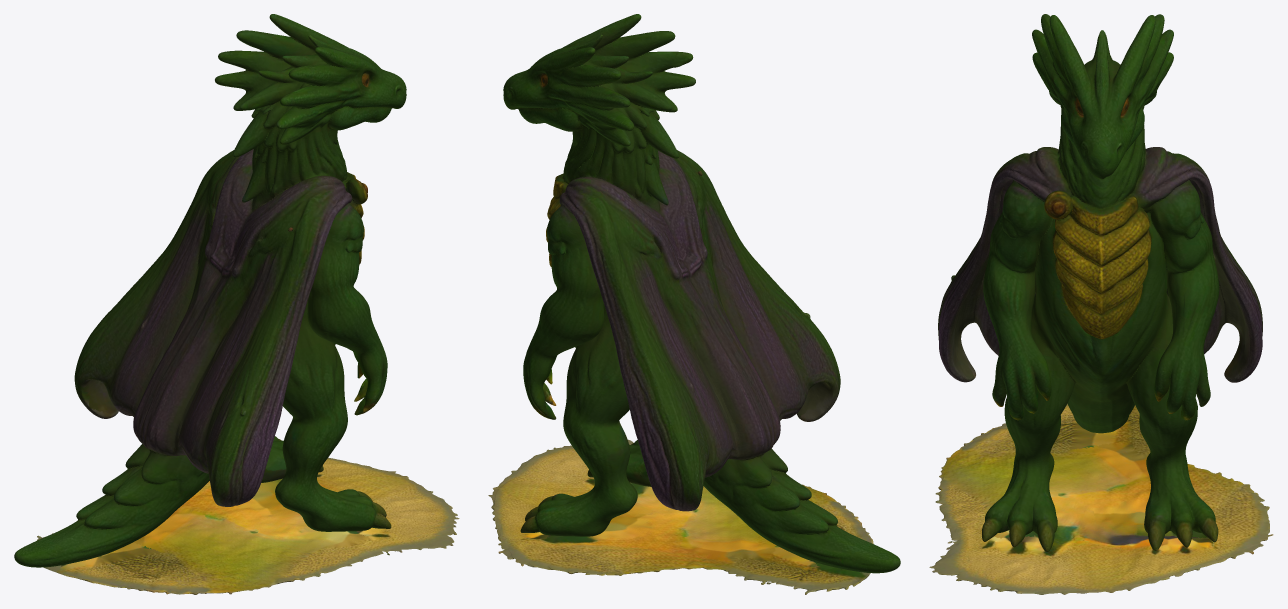
Rendered from LordDraco.glb.
The picture shows the model from 3 angles, left to right: view 1: azimuth 30°, elevation 25°; view 2: azimuth 150°, elevation 25°; view 3: azimuth 270°, elevation 25°; orthographic projection. The views are drawn at different scales.
Parts seen in each view (by area): view 1: tripo_node_4e984a3d-4798-4294-91f8-a6d67712f1cd; view 2: tripo_node_4e984a3d-4798-4294-91f8-a6d67712f1cd; view 3: tripo_node_4e984a3d-4798-4294-91f8-a6d67712f1cd.
Part boxes in pixels (<box>): tripo_node_4e984a3d-4798-4294-91f8-a6d67712f1cd: <box>14,14,459,594</box>; tripo_node_4e984a3d-4798-4294-91f8-a6d67712f1cd: <box>488,14,900,594</box>; tripo_node_4e984a3d-4798-4294-91f8-a6d67712f1cd: <box>929,14,1273,594</box>.
Bounding box in the file's own units: 0.8776 × 1 × 0.6046.
1 material, 1 textured.
